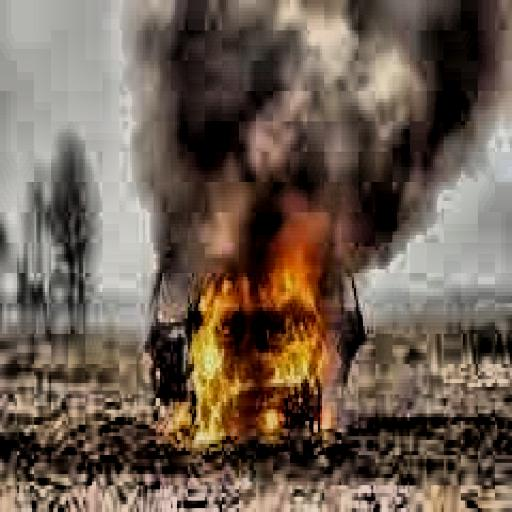fire: (175, 243, 339, 440)
